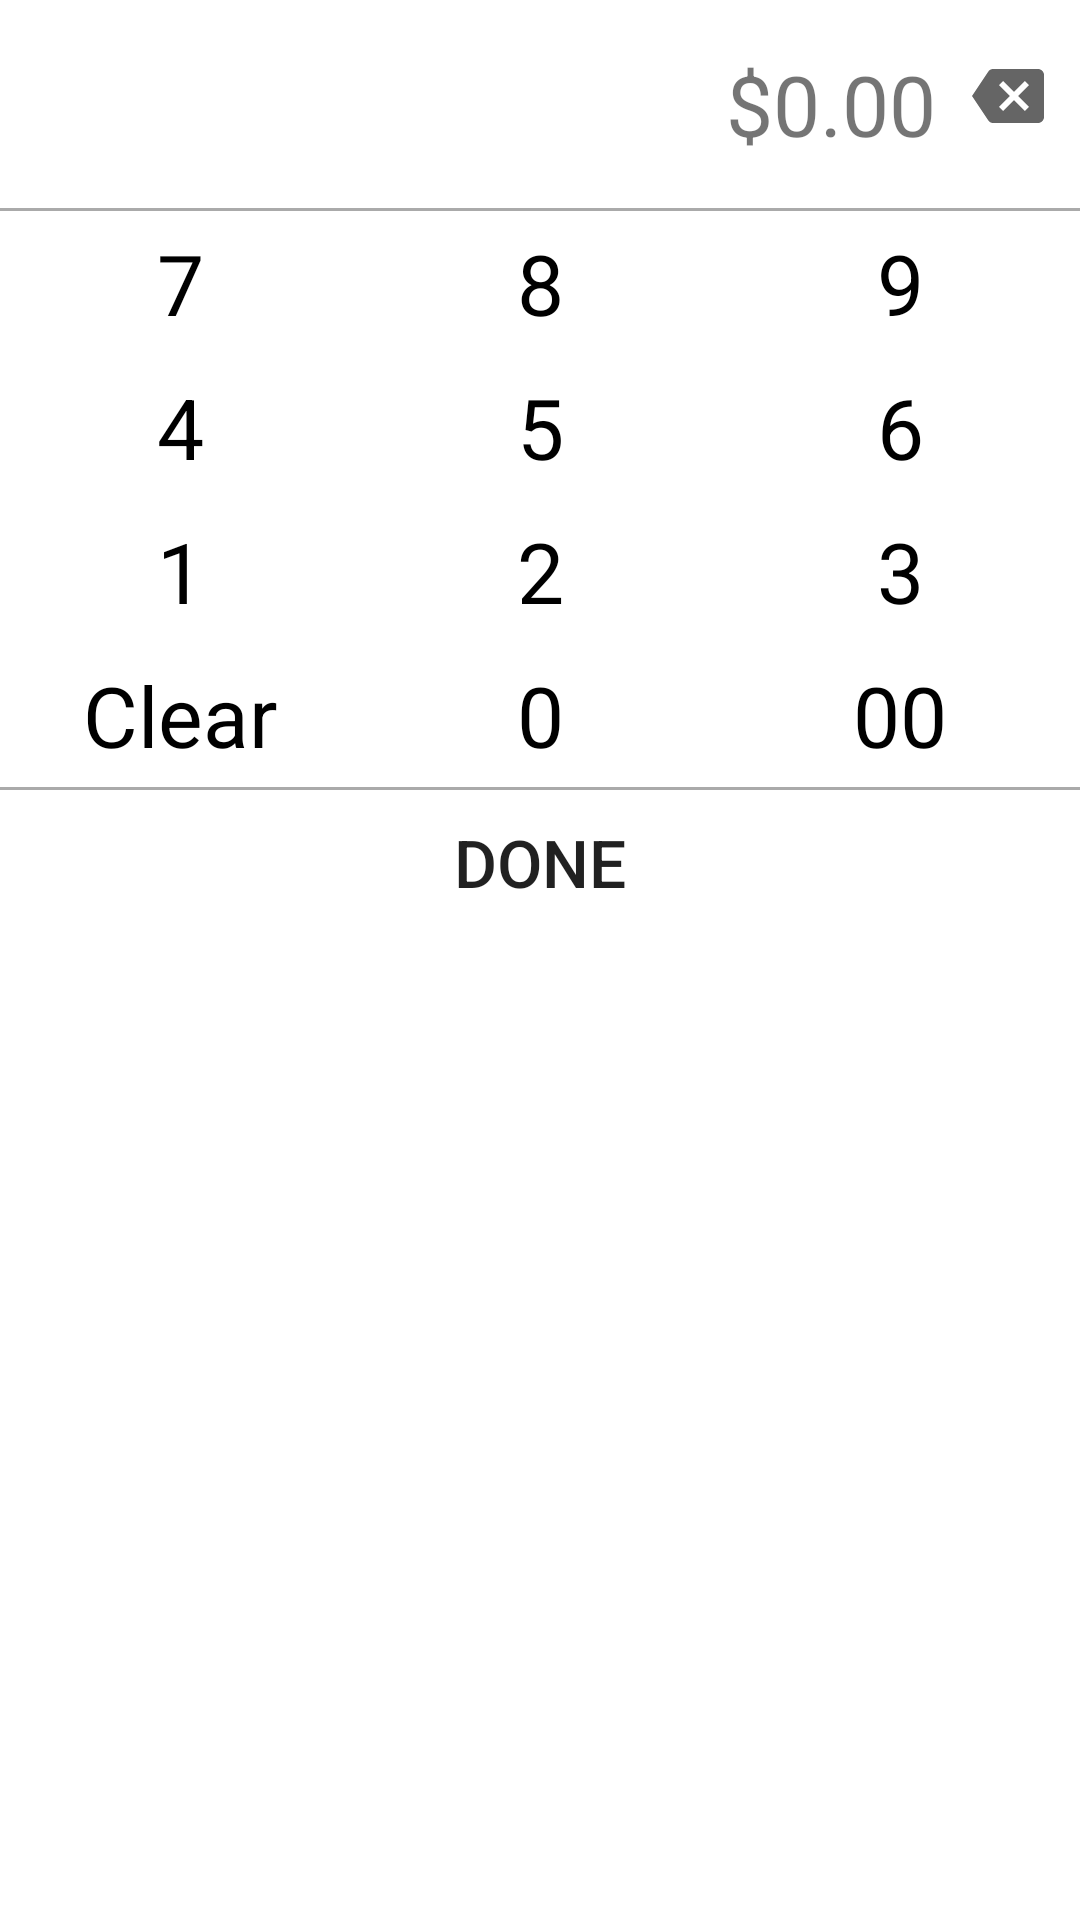

Icons on this 1080*1920 Android screen, each with its box as (x1, y1, x2, y2):
content backspace: (972, 69, 1044, 123)
